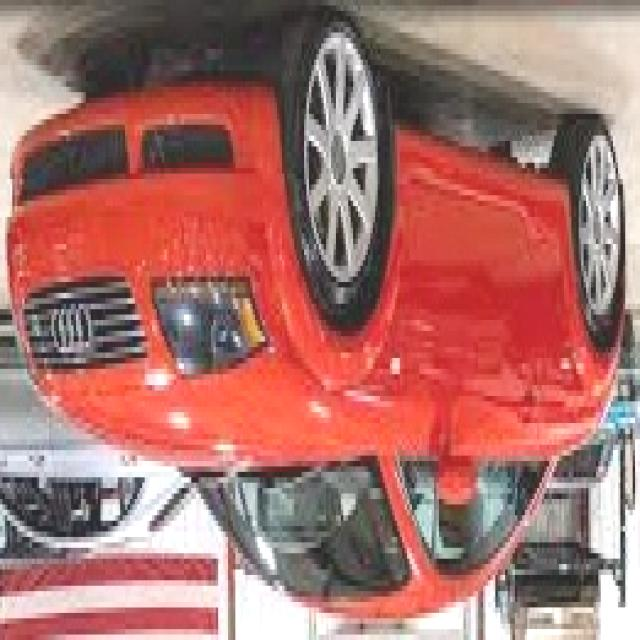red: (10, 77, 626, 627)
